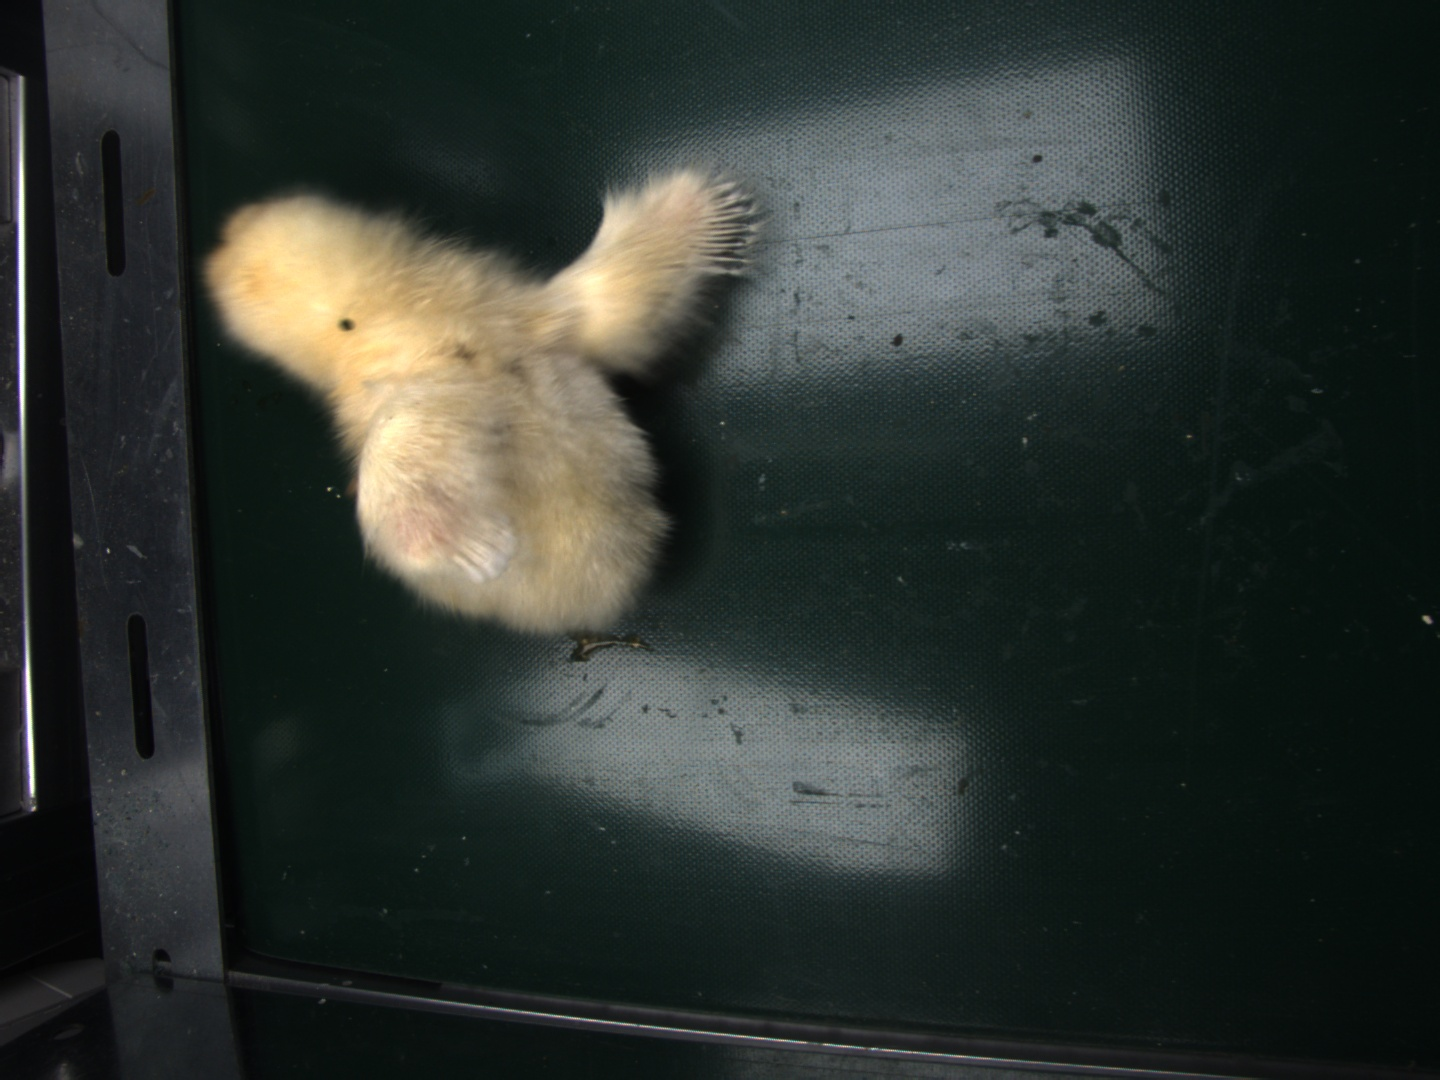male: (692, 179, 757, 275)
